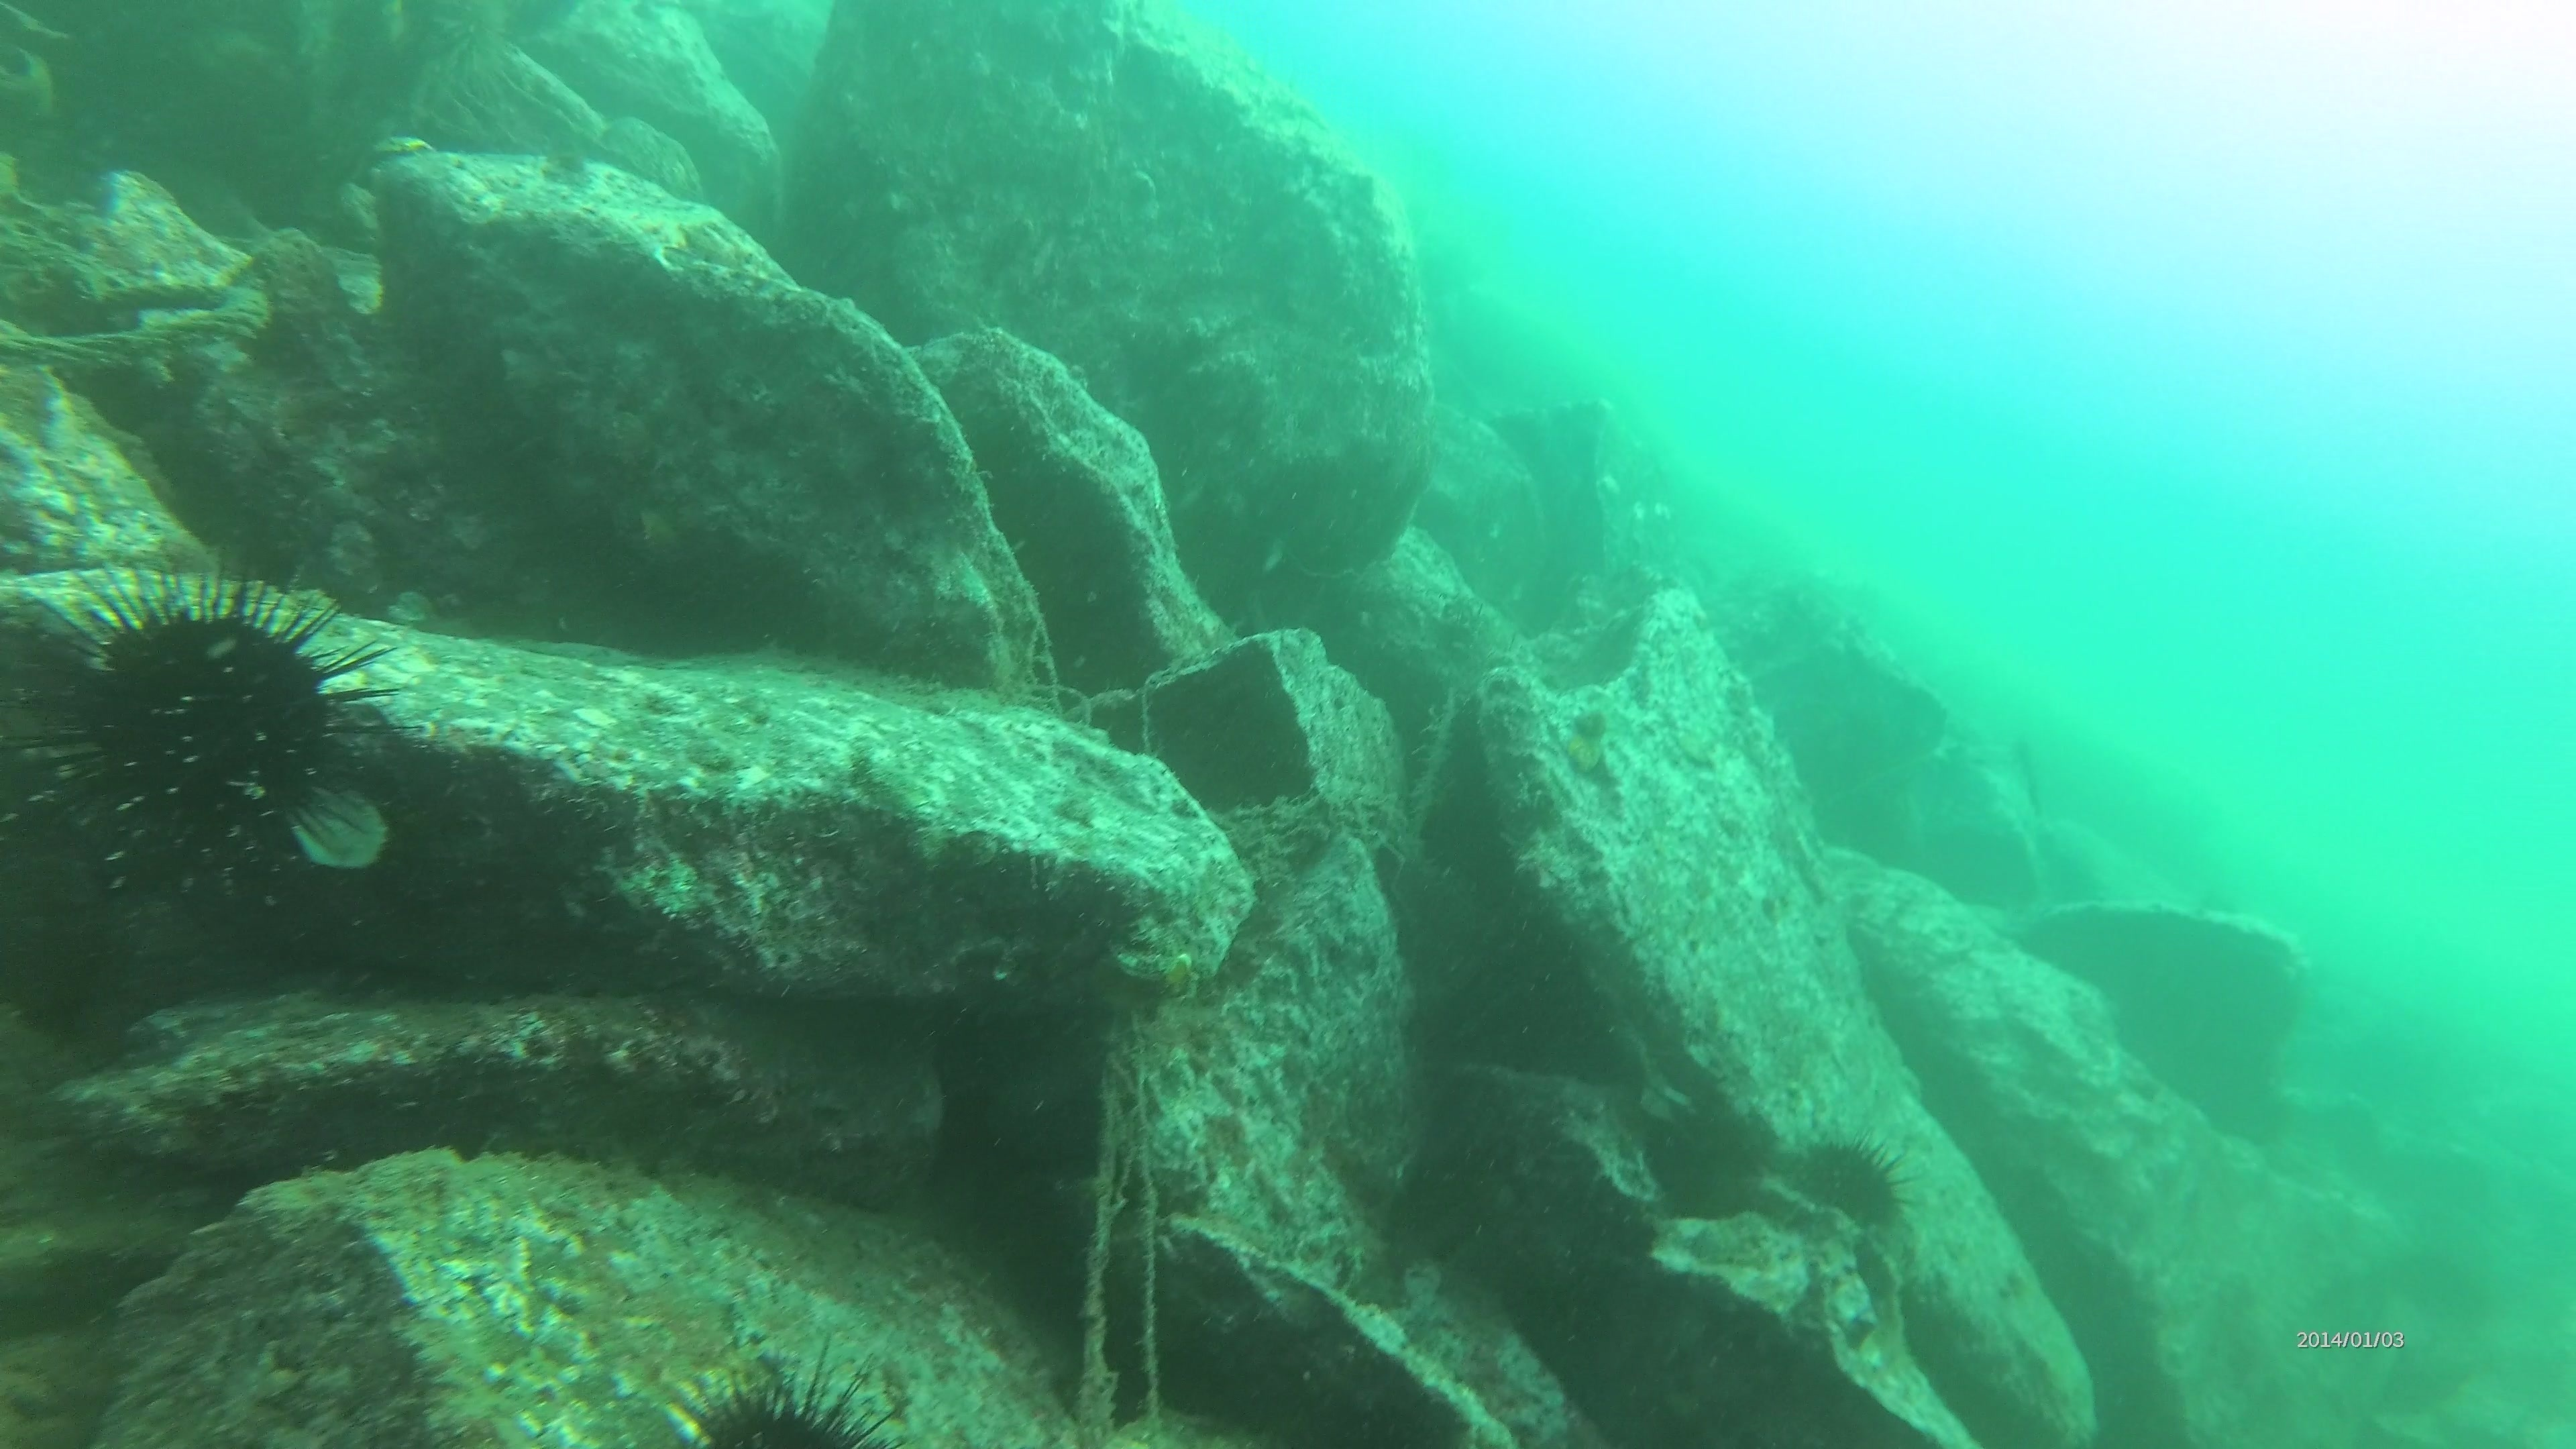echinus: (34, 561, 391, 908), (655, 1350, 909, 1444), (1773, 1123, 1918, 1240)
